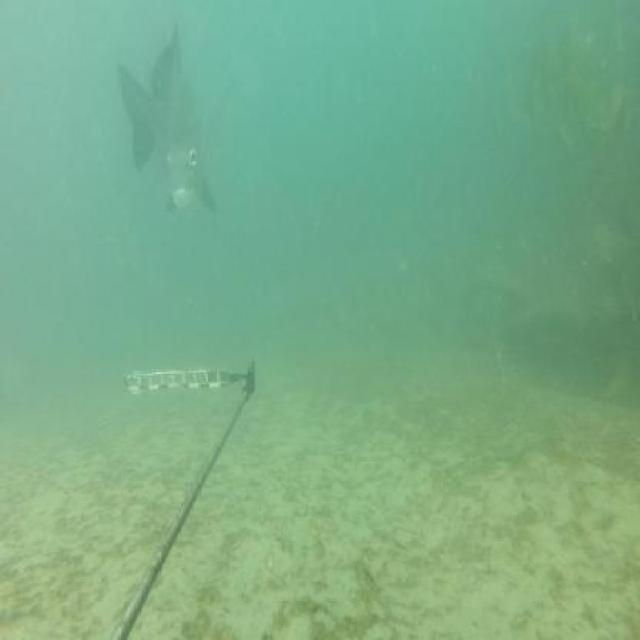acanthopagrus_palmaris: (116, 25, 221, 220)
